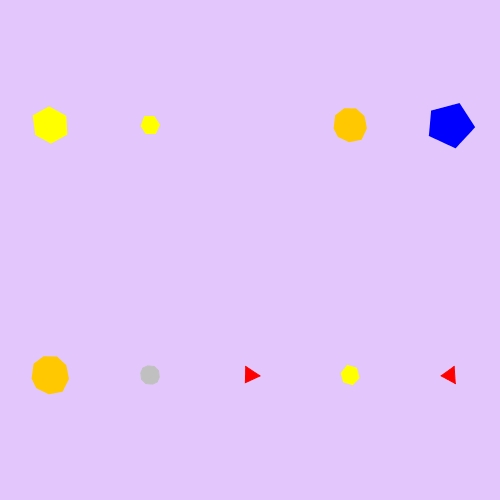decagon: (135, 361, 165, 389)
hexagon: (27, 106, 74, 145), (135, 112, 165, 138), (335, 362, 365, 388)
nonagon: (27, 353, 74, 398), (329, 105, 372, 146)
pentagon: (424, 99, 476, 151)
triangle: (238, 362, 263, 388), (438, 362, 463, 388)
